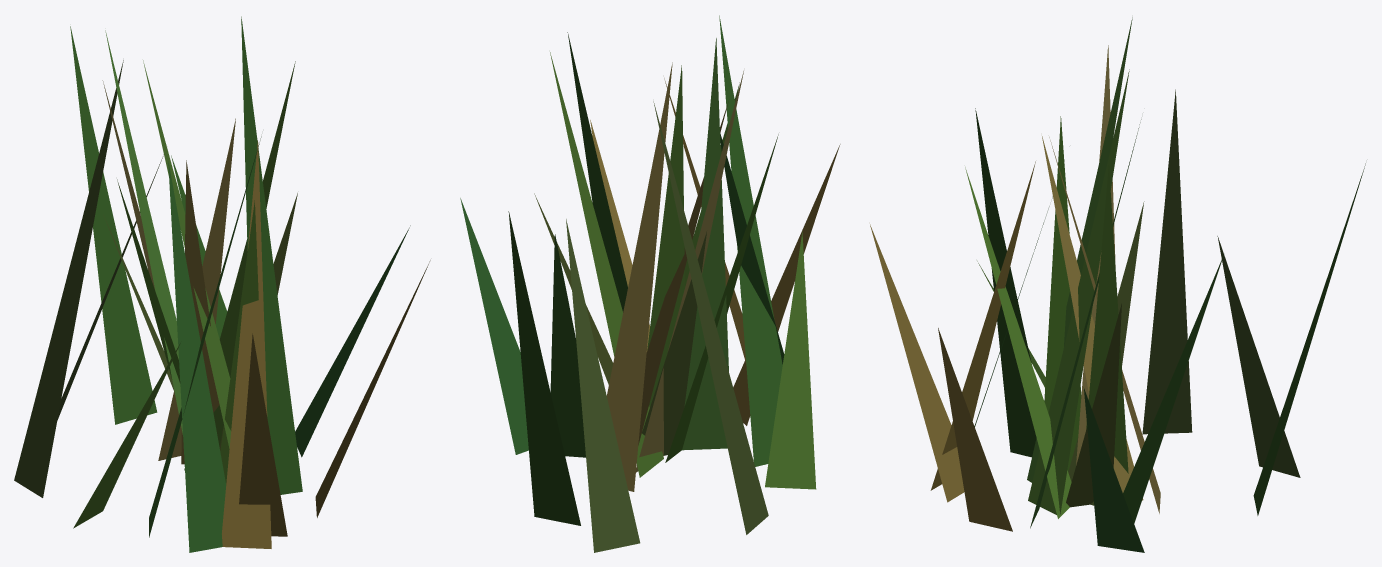
The model's file is PRP_Grass_Clump_A.glb.
3 views of the same model, side by side, from view 1: azimuth 30°, elevation 25°; view 2: azimuth 150°, elevation 25°; view 3: azimuth 270°, elevation 25° (orthographic). The views are drawn at different scales.
Visible parts, largest first — view 1: PRP_Grass_Clump_A_Mesh; view 2: PRP_Grass_Clump_A_Mesh; view 3: PRP_Grass_Clump_A_Mesh.
Boxes of the visible parts, x1,y1,x2,y2 form: PRP_Grass_Clump_A_Mesh: (14,16,430,552); PRP_Grass_Clump_A_Mesh: (460,15,840,552); PRP_Grass_Clump_A_Mesh: (870,17,1365,552).
Bounding box in the file's own units: 0.622 × 0.7912 × 0.7988.
